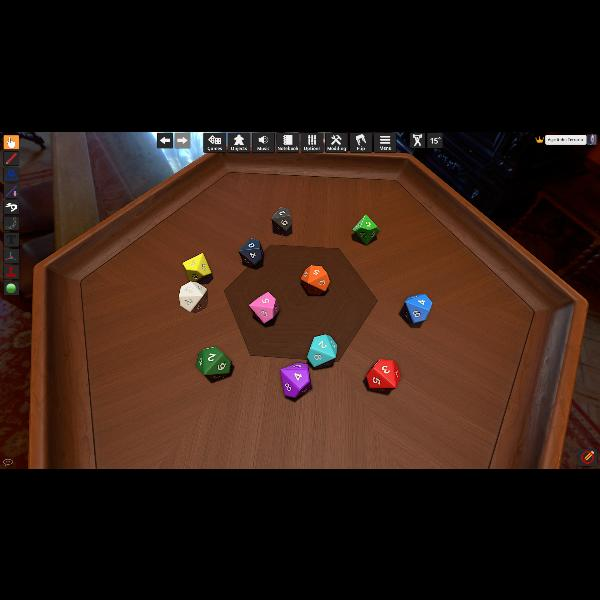d10: (364, 358, 402, 395), (198, 344, 232, 378), (280, 362, 310, 398), (350, 212, 379, 246), (179, 280, 208, 312), (308, 334, 336, 366), (301, 264, 330, 294), (250, 292, 278, 322), (402, 292, 428, 322), (238, 238, 264, 268), (183, 252, 211, 278), (271, 206, 291, 234)
